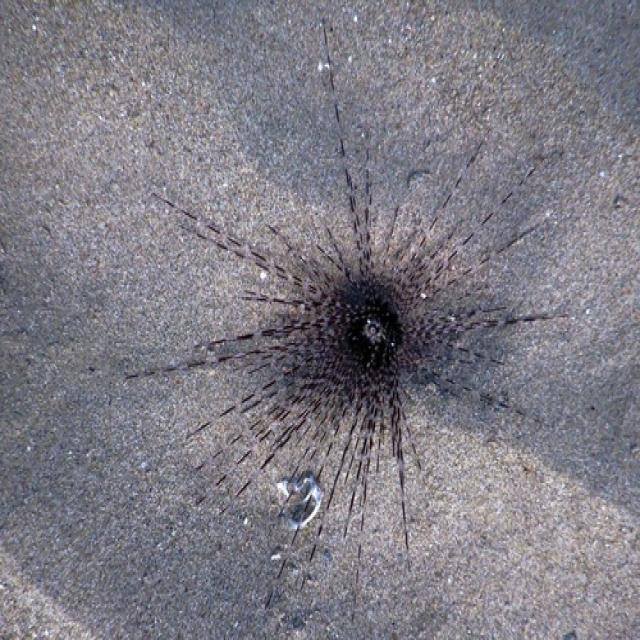Urchin: (109, 25, 554, 606)
